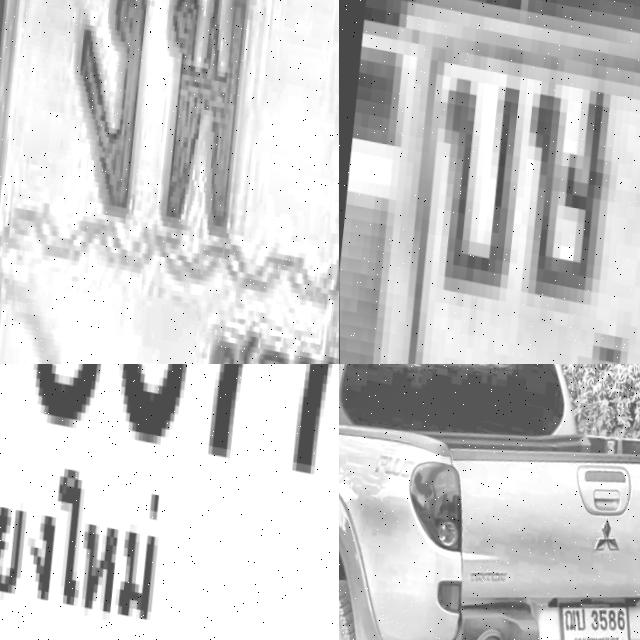license-plate: (0, 0, 339, 364), (339, 0, 640, 364), (0, 364, 339, 640), (549, 577, 637, 640)
